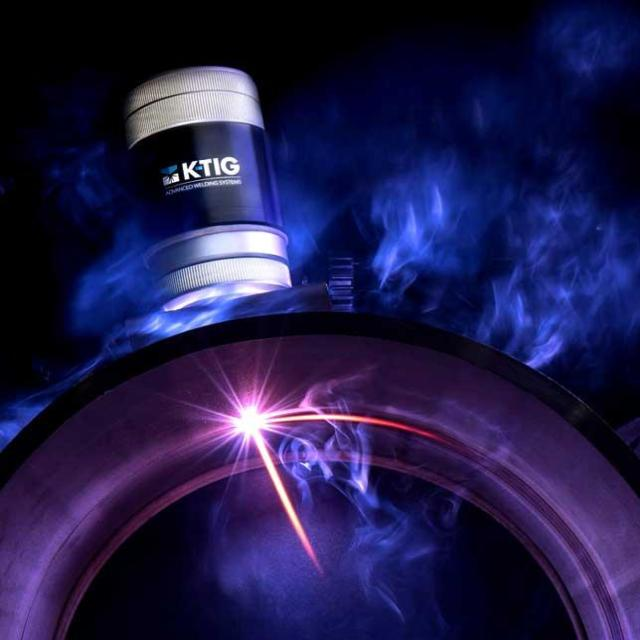welding: (224, 401, 268, 439)
